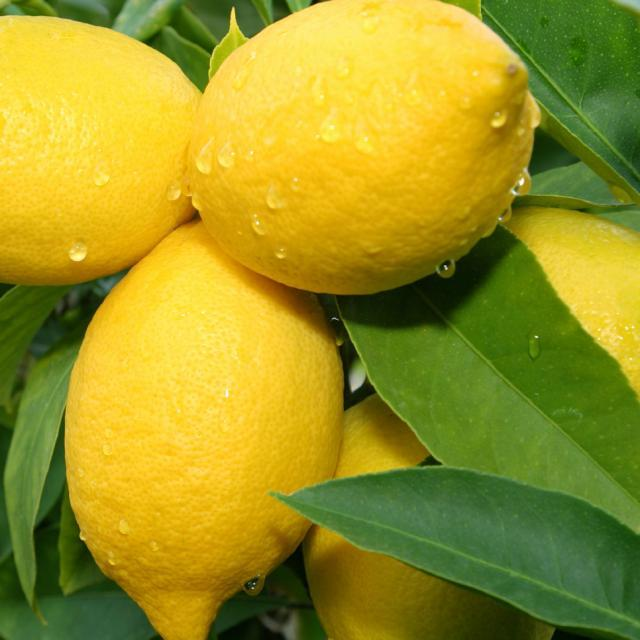lemon: (58, 220, 353, 640), (171, 5, 555, 313)
